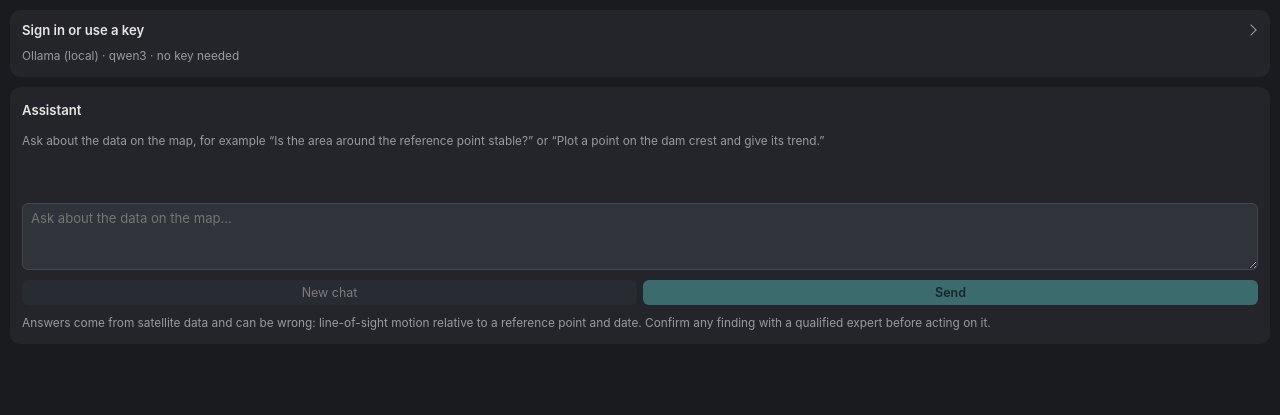
Test case: AssistantTab status line › says which tool runs and for how long, then that the model is thinking, and times each tool
Later steps or results of the test are not shown.
Type "Is it moving?" into the text box named "Question" at (640,237), box [22, 203, 1258, 270]
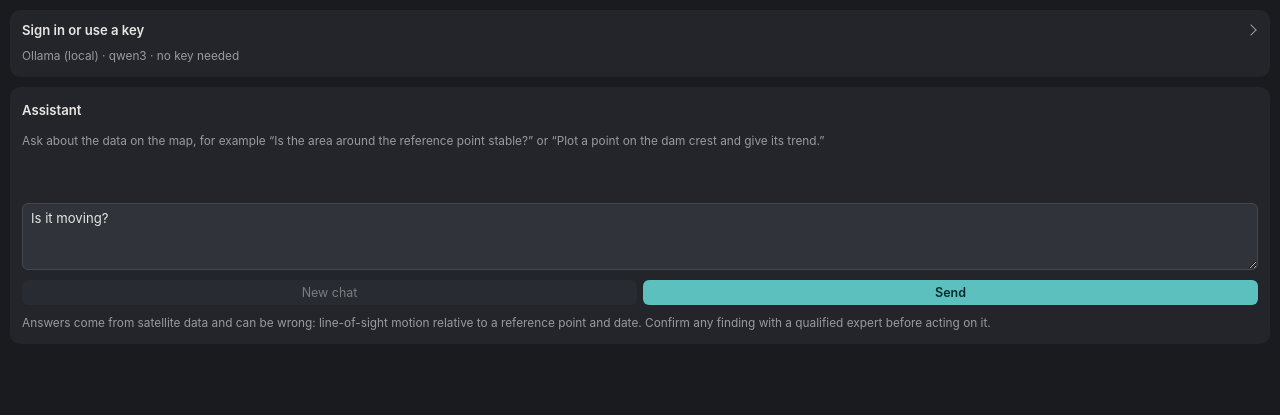
Click the button "Send" at (950,293), box [643, 280, 1258, 305]
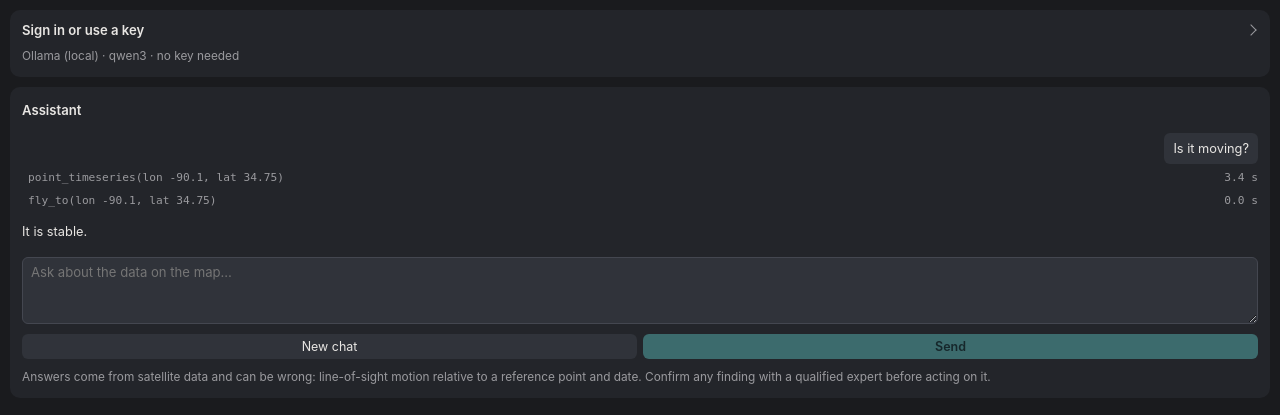
expect the text titled "How long it took" reads "3.4 s": met, box [1224, 171, 1258, 184]
expect the number of elements titled "How long it took" is 2: met, box [1224, 170, 1258, 187]; [1224, 193, 1258, 210]
expect the text "It is stable." is shown: met, box [22, 224, 87, 239]
